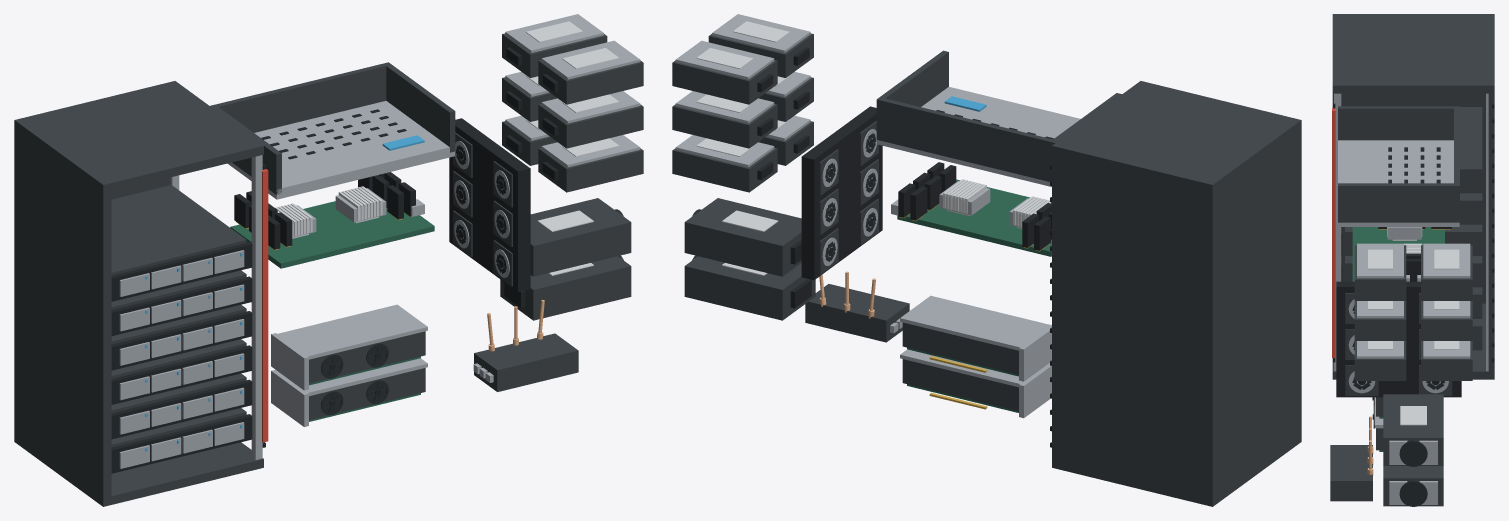
File: cocometric-shape-revision.glb
The picture shows the model from 3 angles, left to right: view 1: azimuth 30°, elevation 25°; view 2: azimuth 150°, elevation 25°; view 3: azimuth 270°, elevation 25°; orthographic projection. The views are drawn at different scales.
Visible parts, largest first — view 1: Rack_Left_Side, Rack_Top, Exploded_Chassis_Base, Installed_Server_5, Fan_Wall, Exploded_Chassis_Back, Rack_Bottom, PSU_0, Motherboard, PSU_1, GPU_1_Backplate, NIC_Router_Body (+31 smaller); view 2: Rack_Back, Rack_Left_Side, Rack_Top, Exploded_Chassis_Back, Fan_Wall, PSU_0, PSU_1, Exploded_Chassis_Base, GPU_1_Backplate, NIC_Router_Body, Motherboard, GPU_1_Body (+16 smaller); view 3: Rack_Top, Exploded_Chassis_Base, Exploded_Chassis_Right, Exploded_Chassis_Left, Fan_Wall, Rack_Left_Side, PSU_0, NIC_Router_Body, Installed_Server_5, Rack_Back, Drive_0_1, Drive_0_0 (+40 smaller).
Boxes of the visible parts, x1,y1,x2,y2 form: Rack_Left_Side: (14,118,111,506); Rack_Top: (14,81,263,193); Exploded_Chassis_Base: (227,101,454,199); Installed_Server_5: (111,185,246,275); Fan_Wall: (449,118,530,291); Exploded_Chassis_Back: (210,62,386,132); Rack_Bottom: (14,433,263,506); PSU_0: (530,198,631,276); Motherboard: (230,201,434,268); PSU_1: (500,256,631,320); GPU_1_Backplate: (277,304,427,359); NIC_Router_Body: (474,333,578,391); Rack_Back: (1052,153,1215,499); Rack_Left_Side: (1204,118,1301,506); Rack_Top: (1052,81,1301,192); Exploded_Chassis_Back: (877,97,1057,181); Fan_Wall: (801,106,882,280); PSU_0: (684,198,801,276); PSU_1: (684,256,815,320); Exploded_Chassis_Base: (877,87,1080,186); GPU_1_Backplate: (900,295,1050,350); NIC_Router_Body: (805,284,909,342); Motherboard: (897,179,1051,256); GPU_1_Body: (902,322,1018,374); Rack_Top: (1332,14,1494,93); Exploded_Chassis_Base: (1338,140,1459,226); Exploded_Chassis_Right: (1338,183,1459,222); Exploded_Chassis_Left: (1338,106,1459,140); Fan_Wall: (1336,281,1461,397); Rack_Left_Side: (1332,14,1494,303); PSU_0: (1383,394,1443,465); NIC_Router_Body: (1330,445,1372,501); Installed_Server_5: (1460,107,1482,193); Rack_Back: (1488,92,1494,372); Drive_0_1: (1354,245,1406,300); Drive_0_0: (1421,245,1472,300).
Bounding box in the file's own units: 8.02 × 4.4 × 2.23.
